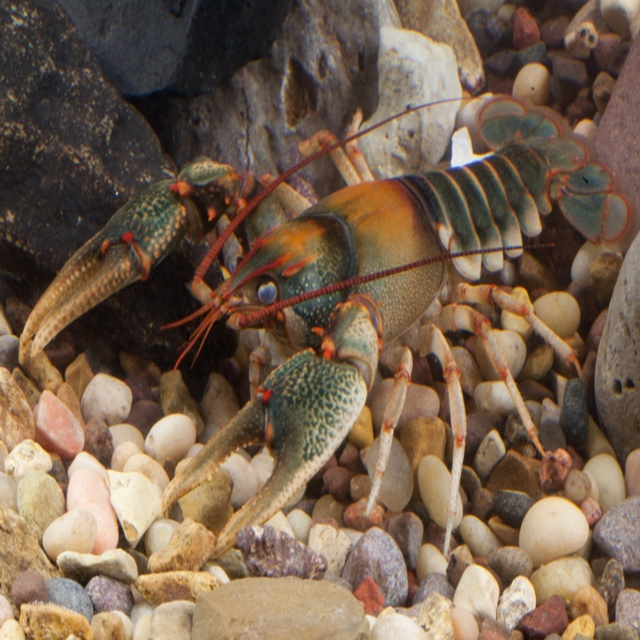Crab: (18, 91, 630, 574)
